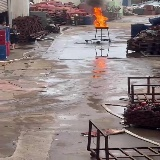fire: (93, 7, 109, 28)
